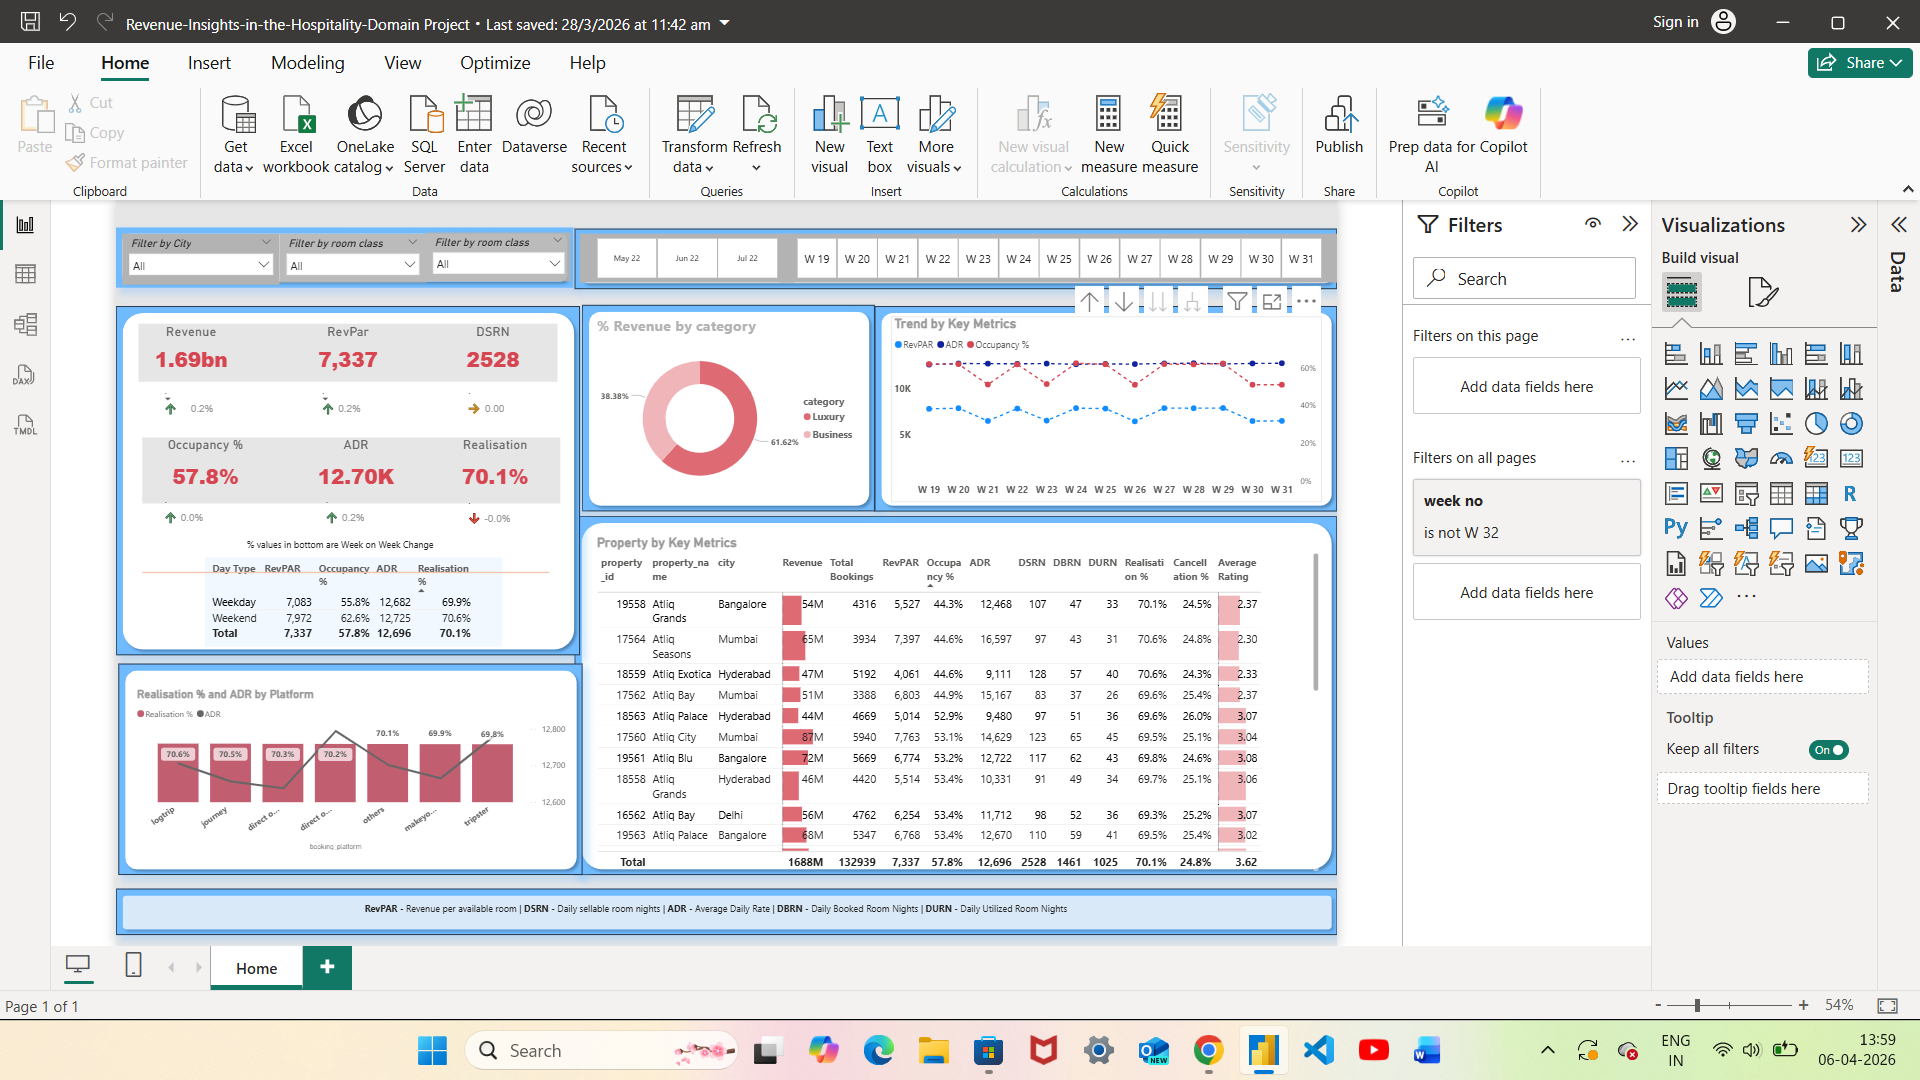

The page's visual inventory and layout, read from the dashboard file:
{"tool":"powerbi","page":{"name":"Home","canvas":[1800,1100],"ordinal":0},"visuals":[{"type":"shape","box":[0,40.5,674.6,88.5],"z":0},{"type":"shape","box":[676.4,42.4,1124.3,88.5],"z":1000},{"type":"shape","box":[676.4,466.3,1124.3,529],"z":2000},{"type":"shape","box":[687.5,154.8,431.3,304.1],"z":3000},{"type":"shape","box":[1118.8,156.7,682,302.3],"z":4000},{"type":"shape","box":[0,156.7,683.8,514.2],"z":5000},{"type":"slicer","fields":{"Values":["dim_rooms.room_class"]},"box":[241.5,49.8,215.7,71.9],"z":6000},{"type":"slicer","fields":{"Values":["dim_hotels.city"]},"box":[9.2,49.8,232.2,75.6],"z":7000},{"type":"slicer","fields":{"Values":["dim_date.mmm yy"]},"box":[683.8,49.8,315.2,71.9],"z":8000},{"type":"card","title":"Revenue","fields":{"Values":["key_measures.Revenue"]},"box":[33.2,182.5,155.6,84.8],"z":8000,"group":"g2"},{"type":"card","title":"RevPar","fields":{"Values":["key_measures.Rev Par"]},"box":[261.8,182.5,161.1,84.8],"z":9000,"group":"g2"},{"type":"card","title":"Occupancy %","fields":{"Values":["key_measures.Occupancy %"]},"box":[38.7,350.6,187,96],"z":9000,"group":"g1"},{"type":"tableEx","title":"Property by Key Metrics","fields":{"Values":["dim_hotels.property_id","dim_hotels.property_name","dim_hotels.city","key_measures.Revenue","key_measures.Total Bookings","key_measures.Rev Par","key_measures.Occupancy %","key_measures.ADR","key_measures.DSRN","key_measures.DBRN","key_measures.DURN","key_measures.Realisation %"]},"box":[704.1,494,1074.6,501.3],"z":9000},{"type":"lineChart","title":"Trend by Key Metrics","fields":{"Category":["dim_date.mmm yy.Variation.Date Hierarchy.Month","dim_date.week no"],"Y2":["key_measures.Occupancy %"],"Y":["key_measures.Rev Par","key_measures.ADR"]},"box":[1142.8,171.4,635.9,274.6],"z":10000},{"type":"card","title":"DSRN","fields":{"Values":["key_measures.DSRN"]},"box":[461.5,182.9,190.5,84.9],"z":11000,"group":"g2"},{"type":"tableEx","fields":{"Values":["dim_date.day type","key_measures.Rev Par","key_measures.Occupancy %","key_measures.ADR","key_measures.Realisation %"]},"box":[130.9,527.1,438.7,130.9],"z":11000},{"type":"card","title":"ADR","fields":{"Values":["key_measures.ADR"]},"box":[259.4,350.2,188.3,96],"z":12000,"group":"g1"},{"type":"shape","box":[3.7,683.8,683.8,311.5],"z":12000},{"type":"card","title":"Realisation","fields":{"Values":["key_measures.Realisation %"]},"box":[465,351.1,189.6,96],"z":13000,"group":"g1"},{"type":"lineStackedColumnComboChart","title":"Realisation % and ADR by Platform","fields":{"Category":["fact_bookings.booking_platform"],"Y":["key_measures.Realisation %"],"Y2":["key_measures.ADR"]},"box":[25.8,718.8,645.1,245.1],"z":13000},{"type":"slicer","fields":{"Values":["dim_date.week no"]},"box":[978.7,49.8,822.1,71.9],"z":14000},{"type":"shape","box":[0,1015.6,1800.8,68.2],"z":15000},{"type":"group","id":"g1","title":"Group 1","box":[38.7,350.2,615.6,97.7],"z":16000},{"type":"slicer","fields":{"Values":["dim_rooms.room_class"]},"box":[457.1,47.9,213.8,71.9],"z":19000},{"type":"group","id":"g2","title":"Group 2","box":[33.2,182.5,617.5,84.8],"z":20000},{"type":"tableEx","fields":{"Values":["key_measures.Revpar WoW change %"]},"box":[293.1,267.3,92.2,59],"z":21000},{"type":"textbox","box":[259.9,1030.3,1246,70],"z":22000},{"type":"shape","box":[38.7,542.7,600,14.7],"z":23000},{"type":"tableEx","fields":{"Values":["key_measures.Revenue WoW change %"]},"box":[60.8,267.3,95.8,59],"z":24000},{"type":"tableEx","fields":{"Values":["key_measures.DSRN WoW change %"]},"box":[508.7,267.3,92.2,59],"z":25000},{"type":"donutChart","title":"% Revenue by category","fields":{"Category":["dim_hotels.category"],"Y":["key_measures.Revenue"]},"box":[704.1,169.6,398.1,276.5],"z":26000},{"type":"group","id":"g3","title":"Group 3","box":[60.8,427.6,540,60.8],"z":27000},{"type":"tableEx","fields":{"Values":["key_measures.Occupancy WoW change %"]},"box":[60.8,427.6,92,58.7],"z":27000,"group":"g3"},{"type":"tableEx","fields":{"Values":["key_measures.ADR WoW change %"]},"box":[298.1,427.6,92,58.7],"z":28000,"group":"g3"},{"type":"textbox","box":[188,494,307.8,33.2],"z":28000},{"type":"tableEx","fields":{"Values":["key_measures.Realisation WoW change %"]},"box":[508.8,428.9,92,58.7],"z":29000,"group":"g3"}]}

Visuals, with their boxes on the page's 1800x1100 design canvas (x1, y1, x2, y2). These are canvas units, not pixel positions in the 1920x1080 screenshot, which may show the page scaled, cropped or inside an application window:
shape: [left=0, top=40, right=675, bottom=129]
shape: [left=676, top=42, right=1801, bottom=131]
shape: [left=676, top=466, right=1801, bottom=995]
shape: [left=688, top=155, right=1119, bottom=459]
shape: [left=1119, top=157, right=1801, bottom=459]
shape: [left=0, top=157, right=684, bottom=671]
slicer - dim_rooms.room_class: [left=242, top=50, right=457, bottom=122]
slicer - dim_hotels.city: [left=9, top=50, right=241, bottom=125]
slicer - dim_date.mmm yy: [left=684, top=50, right=999, bottom=122]
"Revenue" card: [left=33, top=182, right=189, bottom=267]
"RevPar" card: [left=262, top=182, right=423, bottom=267]
"Occupancy %" card: [left=39, top=351, right=226, bottom=447]
"Property by Key Metrics" tableEx: [left=704, top=494, right=1779, bottom=995]
"Trend by Key Metrics" lineChart: [left=1143, top=171, right=1779, bottom=446]
"DSRN" card: [left=462, top=183, right=652, bottom=268]
tableEx - dim_date.day type x key_measures.Rev Par: [left=131, top=527, right=570, bottom=658]
"ADR" card: [left=259, top=350, right=448, bottom=446]
shape: [left=4, top=684, right=688, bottom=995]
"Realisation" card: [left=465, top=351, right=655, bottom=447]
"Realisation % and ADR by Platform" lineStackedColumnComboChart: [left=26, top=719, right=671, bottom=964]
slicer - dim_date.week no: [left=979, top=50, right=1801, bottom=122]
shape: [left=0, top=1016, right=1801, bottom=1084]
"Group 1" group: [left=39, top=350, right=654, bottom=448]
slicer - dim_rooms.room_class: [left=457, top=48, right=671, bottom=120]
"Group 2" group: [left=33, top=182, right=651, bottom=267]
tableEx - key_measures.Revpar WoW change %: [left=293, top=267, right=385, bottom=326]
textbox: [left=260, top=1030, right=1506, bottom=1100]
shape: [left=39, top=543, right=639, bottom=557]
tableEx - key_measures.Revenue WoW change %: [left=61, top=267, right=157, bottom=326]
tableEx - key_measures.DSRN WoW change %: [left=509, top=267, right=601, bottom=326]
"% Revenue by category" donutChart: [left=704, top=170, right=1102, bottom=446]
"Group 3" group: [left=61, top=428, right=601, bottom=488]
tableEx - key_measures.Occupancy WoW change %: [left=61, top=428, right=153, bottom=486]
tableEx - key_measures.ADR WoW change %: [left=298, top=428, right=390, bottom=486]
textbox: [left=188, top=494, right=496, bottom=527]
tableEx - key_measures.Realisation WoW change %: [left=509, top=429, right=601, bottom=488]
